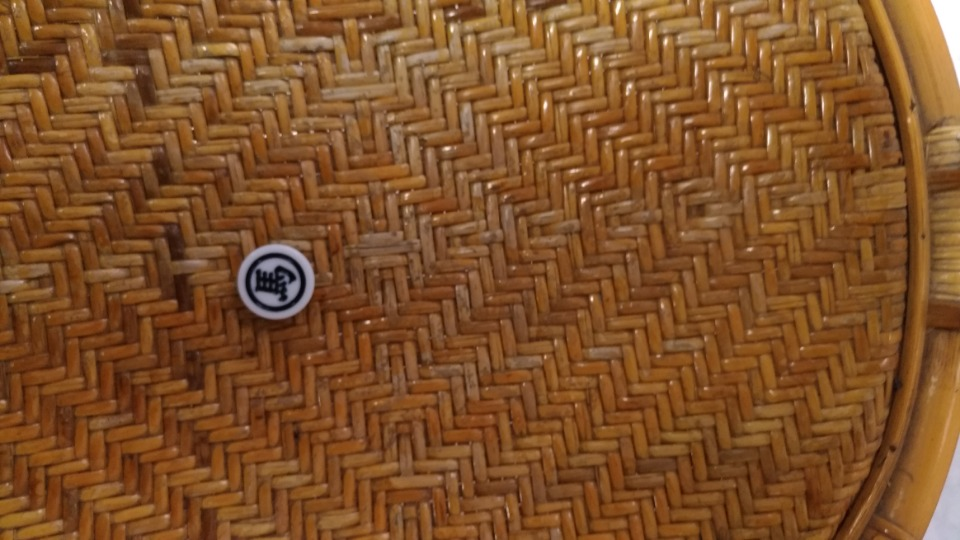b-knight: (222, 229, 336, 329)
